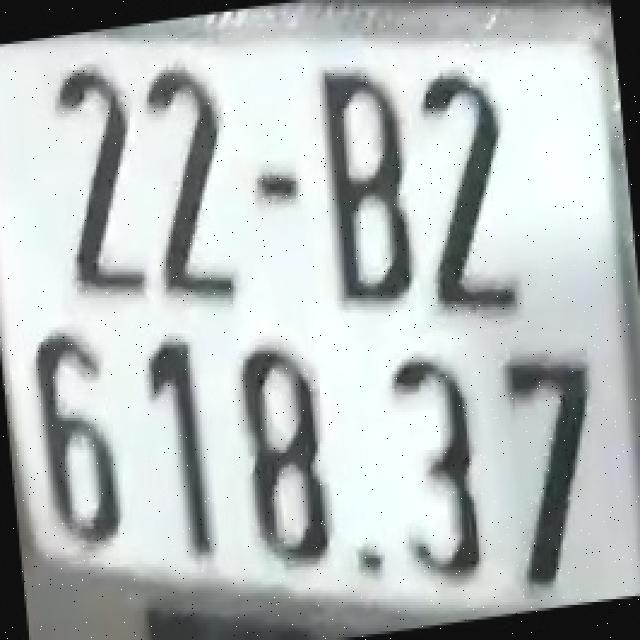1: (144, 333, 219, 561)
2: (420, 64, 530, 316), (147, 60, 243, 302), (51, 62, 149, 296)
3: (387, 351, 486, 578)
6: (35, 328, 124, 546)
7: (502, 349, 596, 586)
8: (240, 339, 334, 570)
B: (312, 63, 418, 308)
